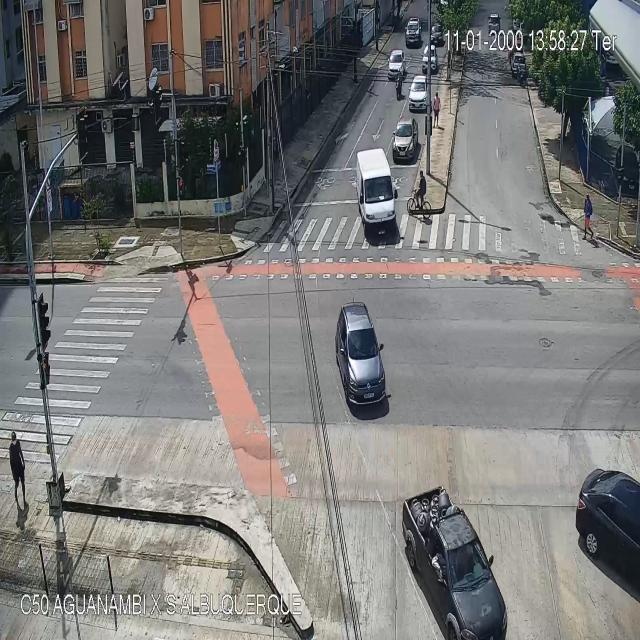Car: (403, 486, 508, 640), (574, 468, 640, 589), (335, 302, 387, 409), (355, 147, 399, 229), (392, 119, 417, 158), (409, 75, 428, 113), (386, 50, 406, 76), (422, 45, 437, 74), (404, 18, 420, 44), (512, 53, 528, 74), (430, 24, 443, 47), (488, 11, 500, 33)
Motorcycle: (396, 68, 402, 100), (516, 66, 523, 85)
